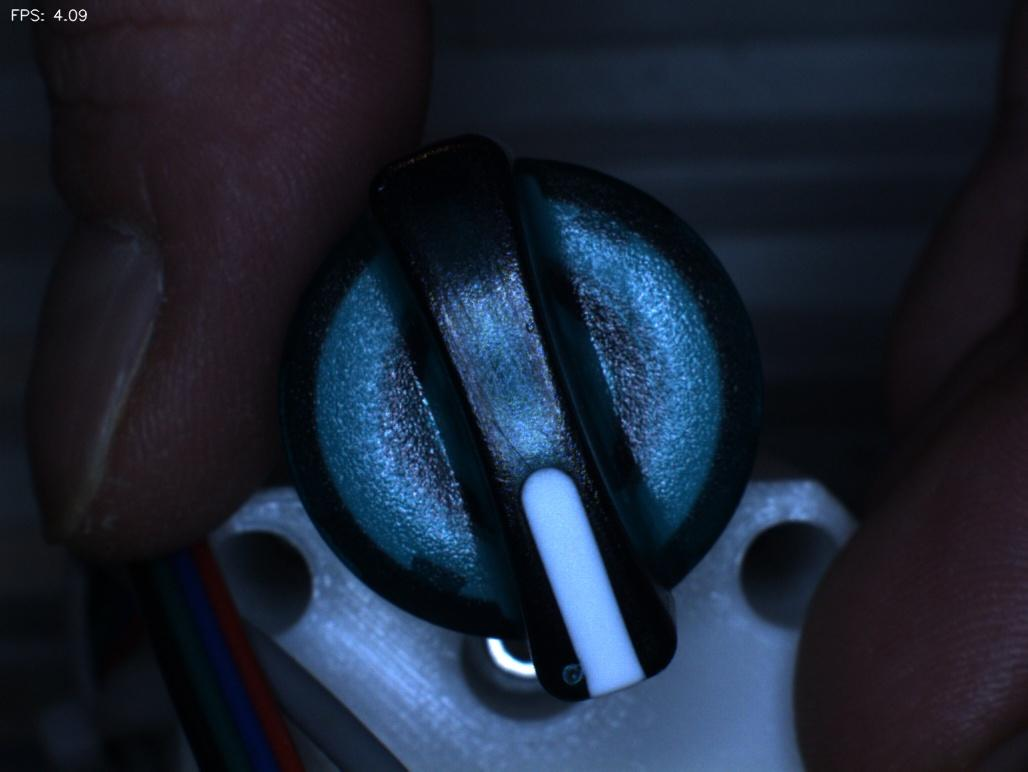Choc: (537, 635, 612, 720)
